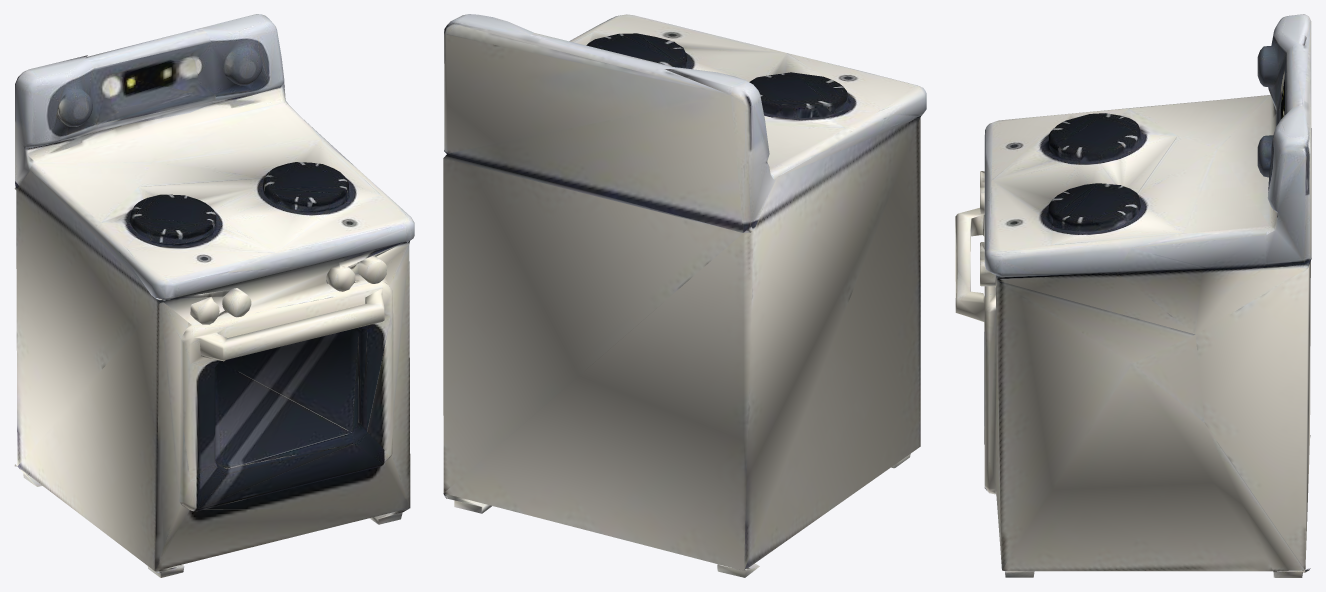
Rendered from stove.glb.
3 views of the same model, side by side, from view 1: azimuth 30°, elevation 25°; view 2: azimuth 150°, elevation 25°; view 3: azimuth 270°, elevation 25° (orthographic). The views are drawn at different scales.
Bounding box in the file's own units: 1.28 × 1.91 × 1.4.
Materials: 1 (1 with a texture image).
